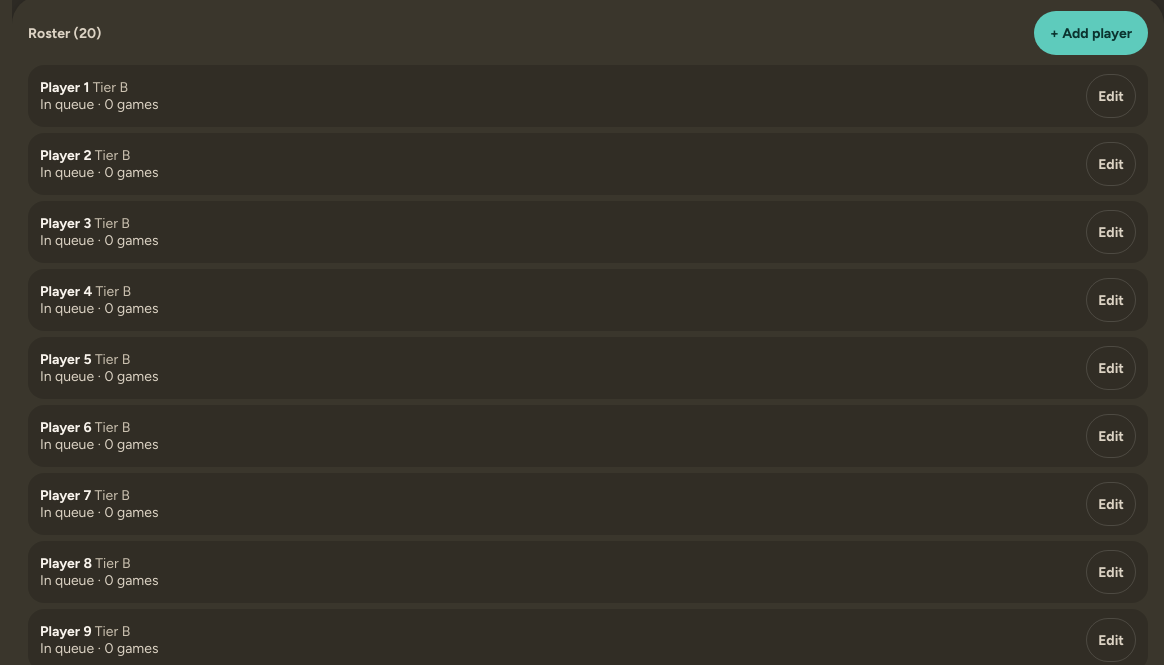
Test: ManageTab + Add player › closes again with Done, and leaves the lower walk-in panel alone
Click the button "+ Add player". click: {"x": 1091, "y": 33}
box: [1034, 11, 1148, 55]
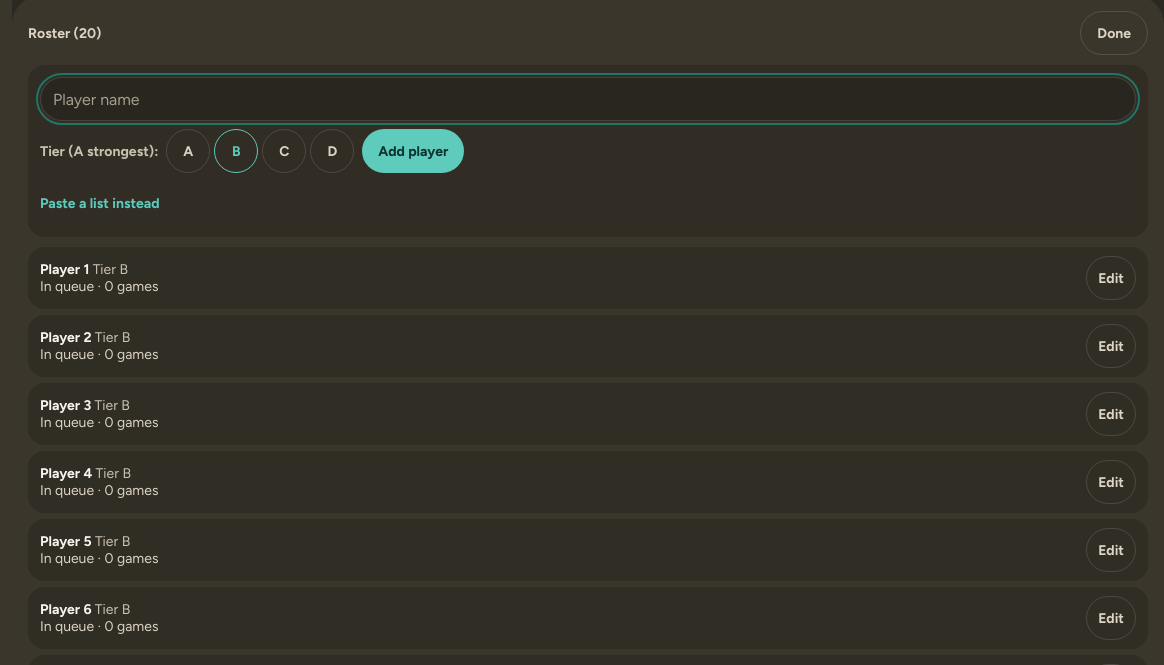
Click the button "Done". click: {"x": 1114, "y": 33}
box: [1080, 11, 1148, 55]
(page scrolled)
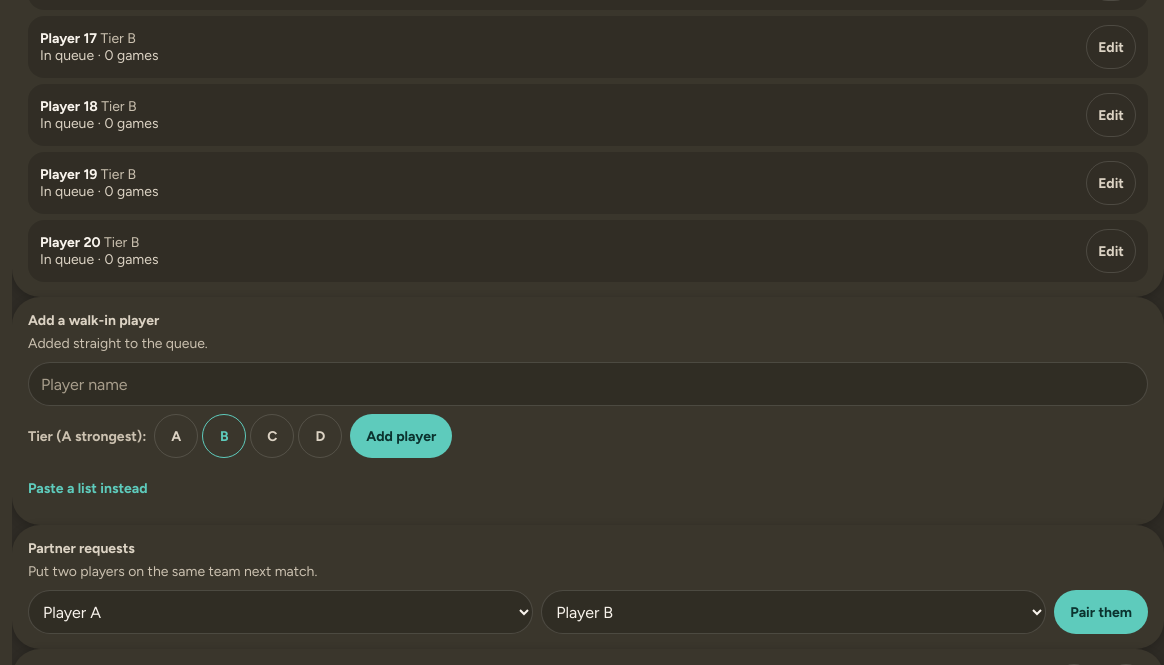
Expected: the text "Add a walk-in player" is shown, [28, 312, 159, 329]
Expected: the element with id "roster-add" is gone
